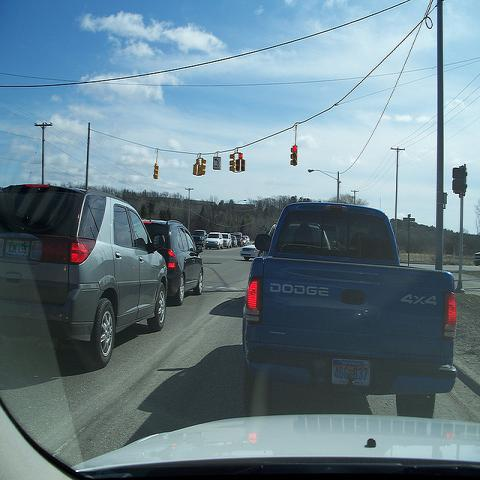car: (5, 181, 170, 362), (142, 217, 205, 305), (240, 240, 265, 260), (204, 230, 224, 250), (192, 229, 208, 247), (222, 233, 232, 248), (233, 232, 243, 247), (232, 235, 237, 248), (243, 235, 250, 243), (243, 236, 247, 246)
truck: (242, 202, 458, 420)
